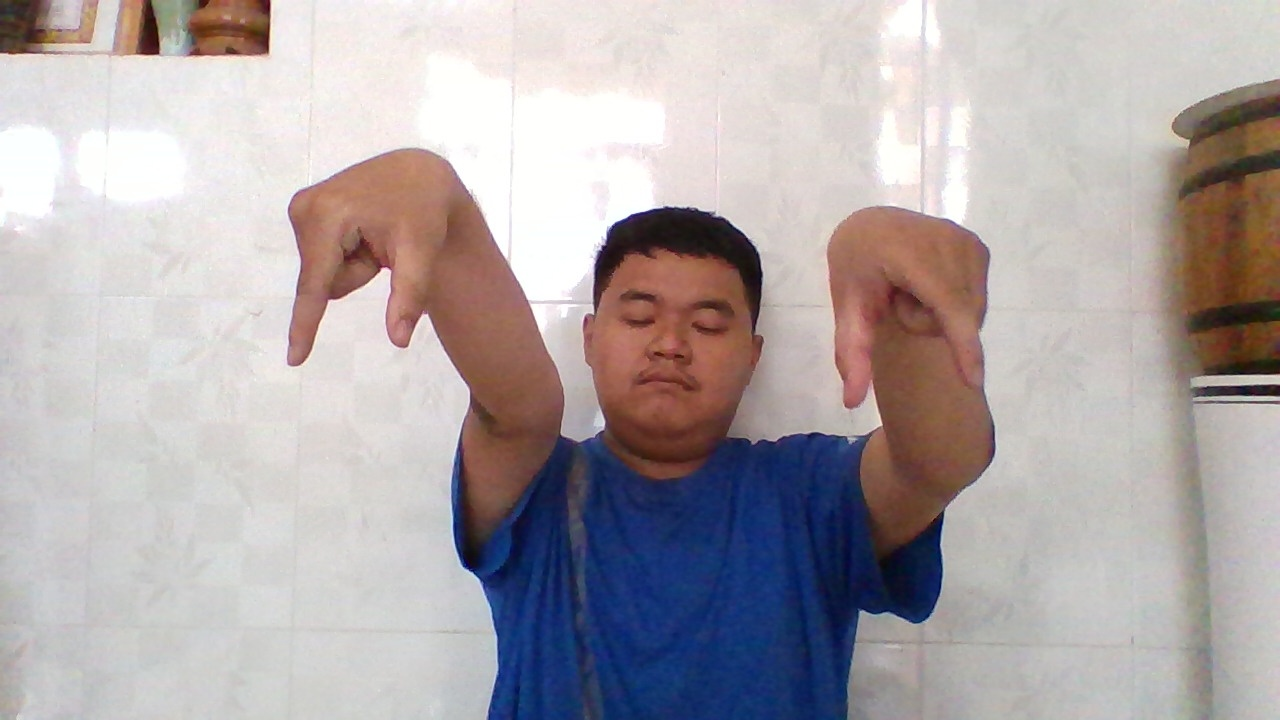Q: (278, 154, 448, 374), (826, 200, 996, 414)
